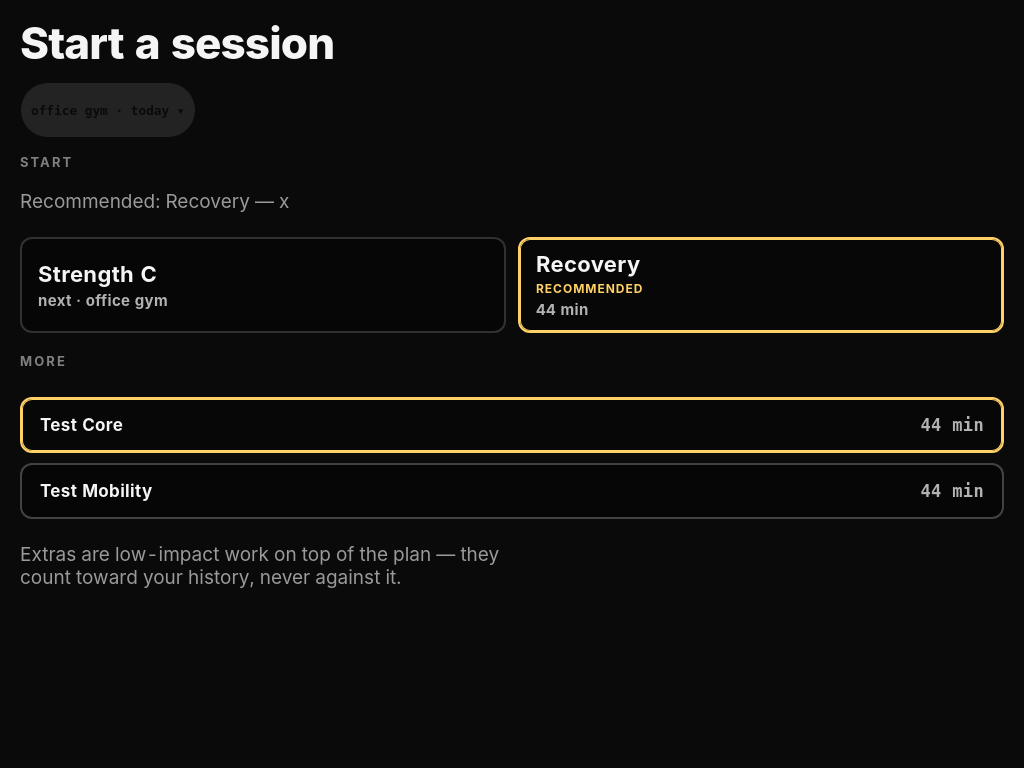
Scenario: Recommended (RECOMMEND) › no highlight on a room picked for this launch only
expect the button with test id "quick-recovery" is shown: met, box [518, 237, 1004, 333]
Click the button with aria-label "Change location for this session": coordinates (108, 110) [20, 82, 196, 138]
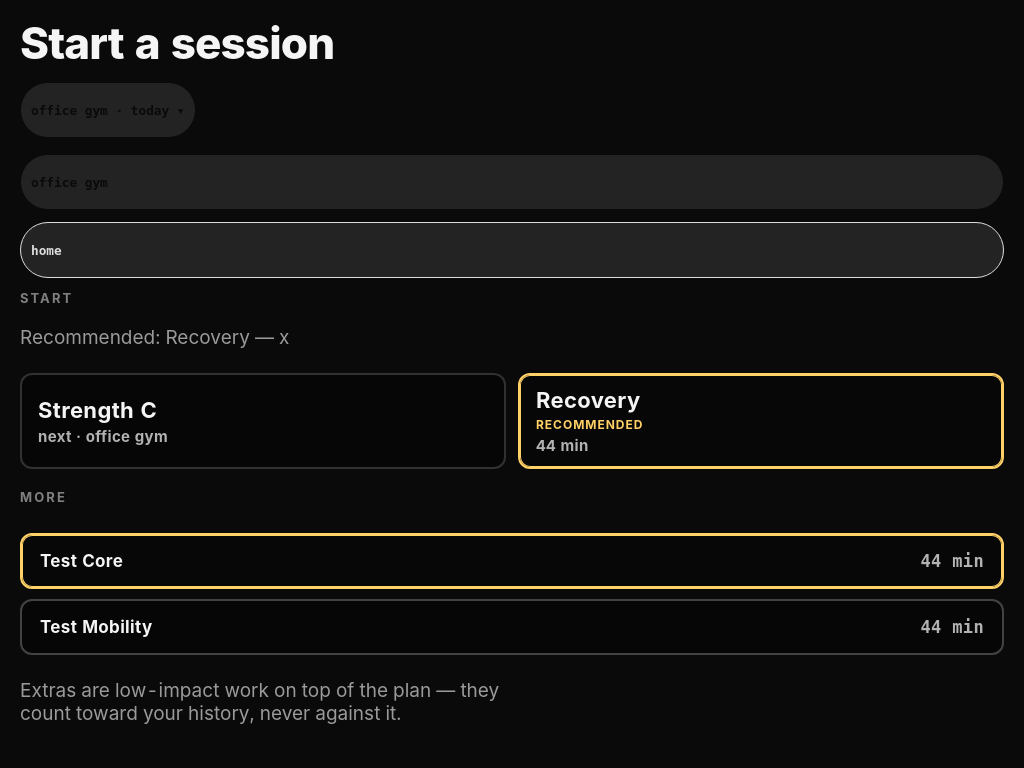
Click the button "home": coordinates (46, 250) [20, 222, 1004, 278]
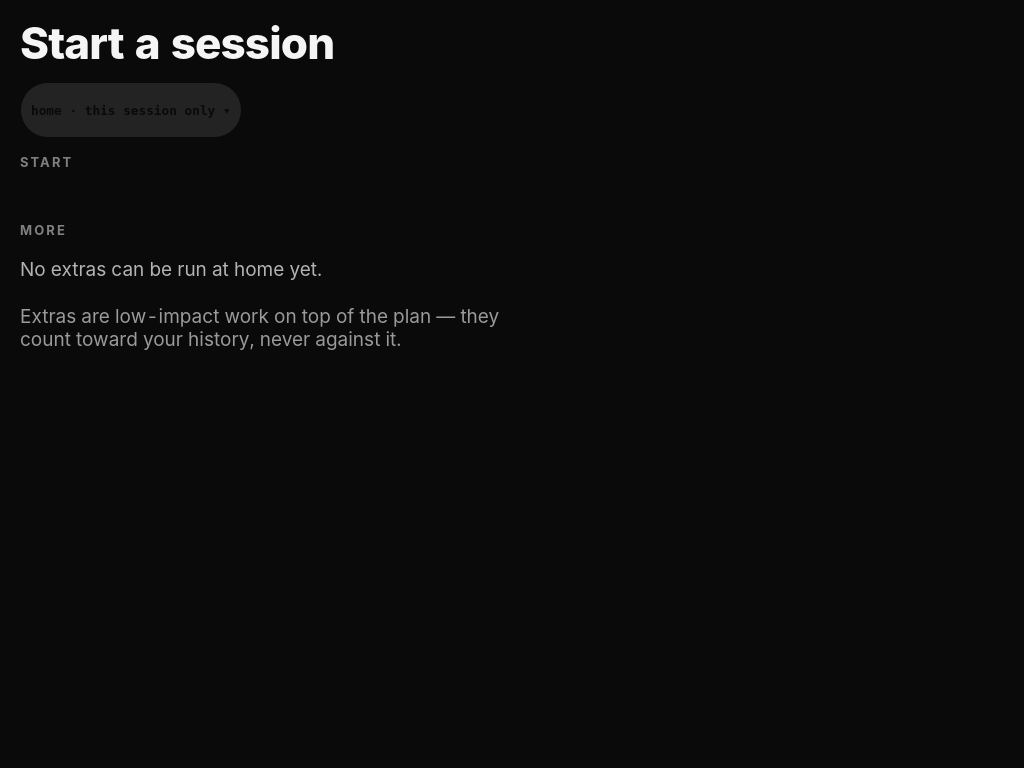
expect the text with test id "quick-rec-tag" is gone: met
